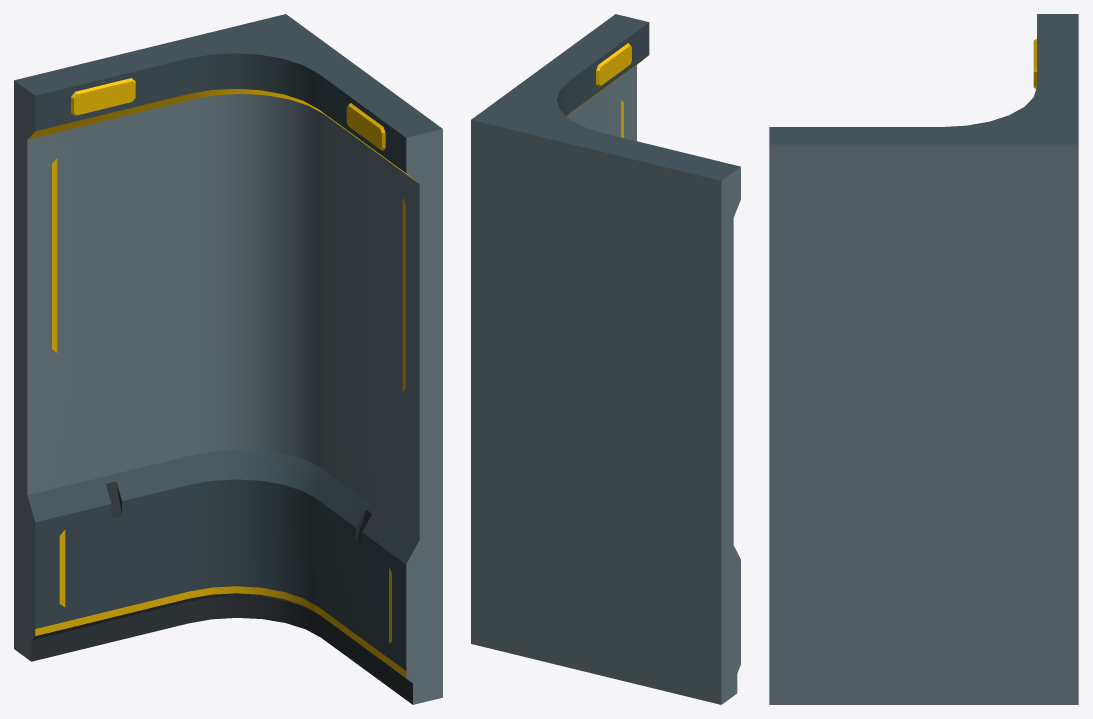
The model's file is Wall_type_C_069.glb.
3 views of the same model, side by side, from view 1: azimuth 30°, elevation 25°; view 2: azimuth 150°, elevation 25°; view 3: azimuth 270°, elevation 25° (orthographic). The views are drawn at different scales.
Parts seen in each view (by area): view 1: Wall_type_C_069; view 2: Wall_type_C_069; view 3: Wall_type_C_069.
Part boxes in pixels (x1,y1,x2,y2): Wall_type_C_069: (14,14,442,704); Wall_type_C_069: (471,14,740,704); Wall_type_C_069: (769,14,1078,704).
Bounding box in the file's own units: 2 × 4 × 2.
1 material, 1 textured.
